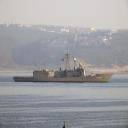Fragata: (14, 45, 116, 85)
